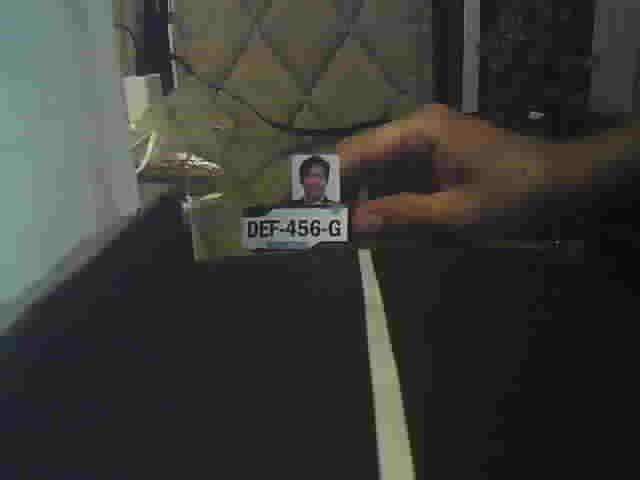PLACA: (239, 203, 350, 253)
ROSTRO: (288, 154, 342, 200)
